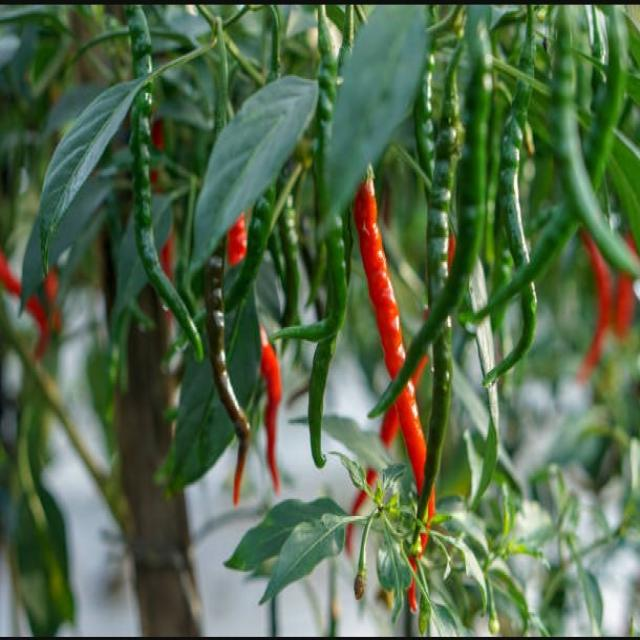Ripe: (354, 177, 405, 378), (394, 380, 426, 494)
Unripe: (370, 24, 489, 418), (128, 3, 201, 359), (475, 81, 535, 396), (205, 244, 251, 505), (309, 218, 348, 466), (428, 46, 462, 304), (418, 316, 452, 519), (316, 6, 338, 182), (279, 194, 300, 326), (414, 50, 435, 178), (270, 319, 330, 342)
